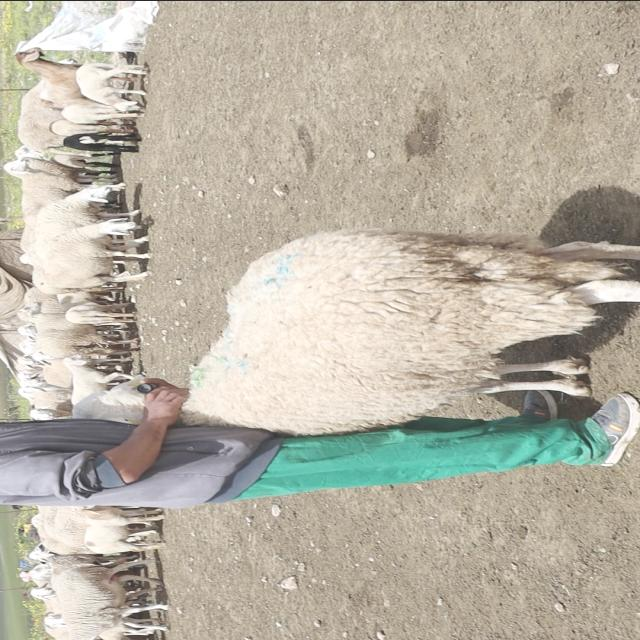Score_2: (180, 227, 639, 434)
